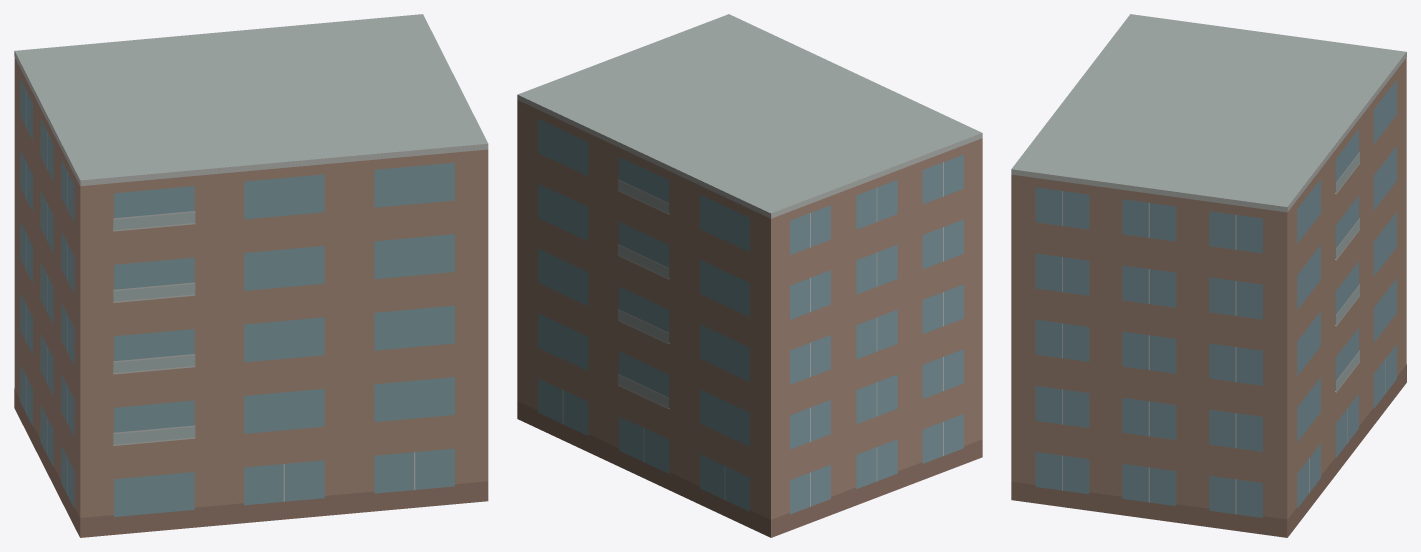
The model's file is survey-upis-32538910.glb.
The picture shows the model from 3 angles, left to right: view 1: azimuth 30°, elevation 25°; view 2: azimuth 150°, elevation 25°; view 3: azimuth 270°, elevation 25°; orthographic projection. The views are drawn at different scales.
Visible parts, largest first — view 1: survey-upis-32538910.tmp; view 2: survey-upis-32538910.tmp; view 3: survey-upis-32538910.tmp.
Part boxes in pixels (x1=…): survey-upis-32538910.tmp: x1=14, y1=14, x2=488, y2=537; survey-upis-32538910.tmp: x1=517, y1=14, x2=982, y2=537; survey-upis-32538910.tmp: x1=1011, y1=14, x2=1406, y2=537.
Size of the model in its own units: 19.11 by 15.25 by 16.54.
